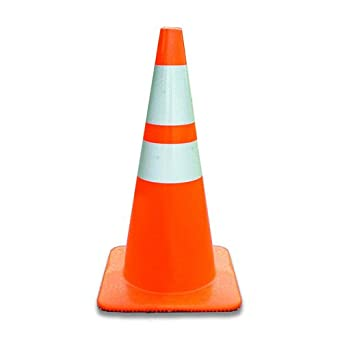cones: (96, 24, 245, 312)
